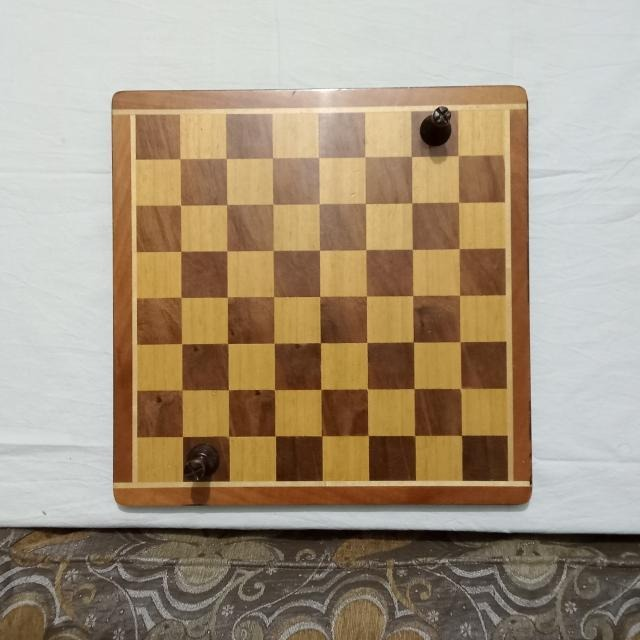black-rook: (183, 443, 220, 485), (419, 106, 454, 150)
